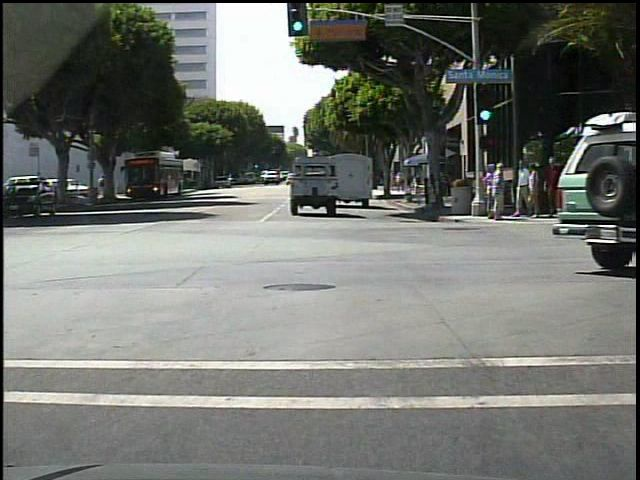person: (562, 156, 585, 229), (602, 163, 622, 225), (538, 152, 557, 217), (488, 160, 508, 221), (515, 159, 536, 217), (588, 165, 608, 224), (526, 163, 542, 220), (484, 163, 496, 218), (103, 176, 113, 201), (97, 175, 106, 198), (395, 170, 403, 193)
